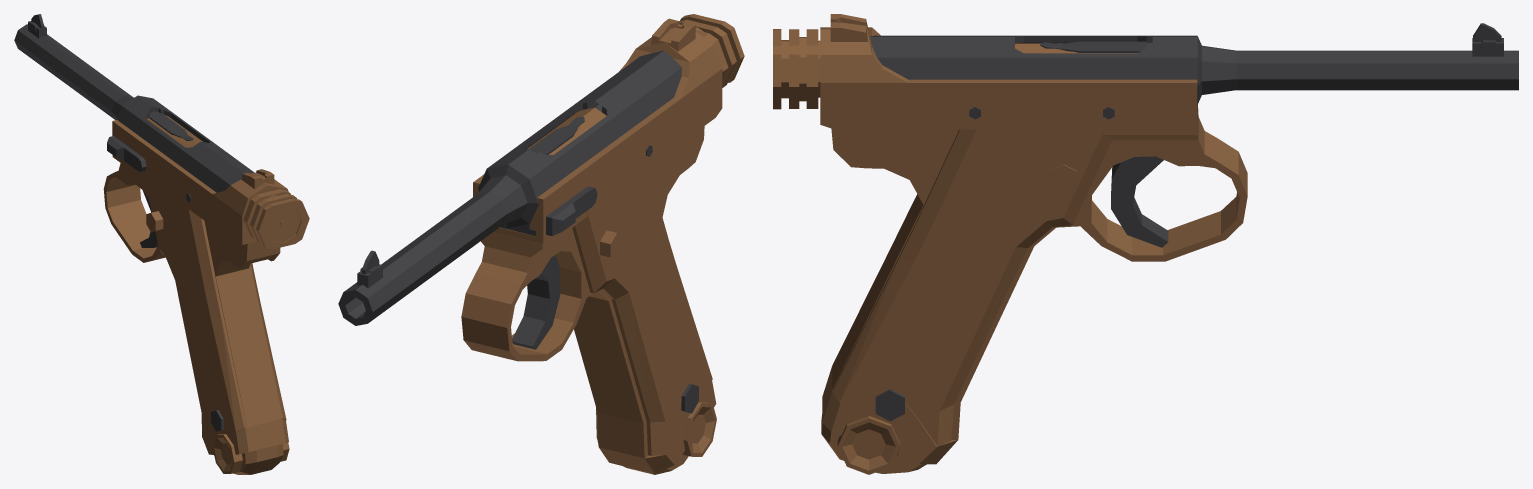
3 renders of one model, left to right at view 1: azimuth 30°, elevation 25°; view 2: azimuth 150°, elevation 25°; view 3: azimuth 270°, elevation 25°, orthographic. The views are drawn at different scales.
Visible parts, largest first — view 1: nambu-type-14; view 2: nambu-type-14; view 3: nambu-type-14.
Part boxes in pixels (x1,y1,x2,y2): nambu-type-14: [14, 14, 309, 474]; nambu-type-14: [338, 14, 744, 474]; nambu-type-14: [773, 14, 1518, 474].
Bounding box in the file's own units: 0.0325 × 0.1513 × 0.23.
